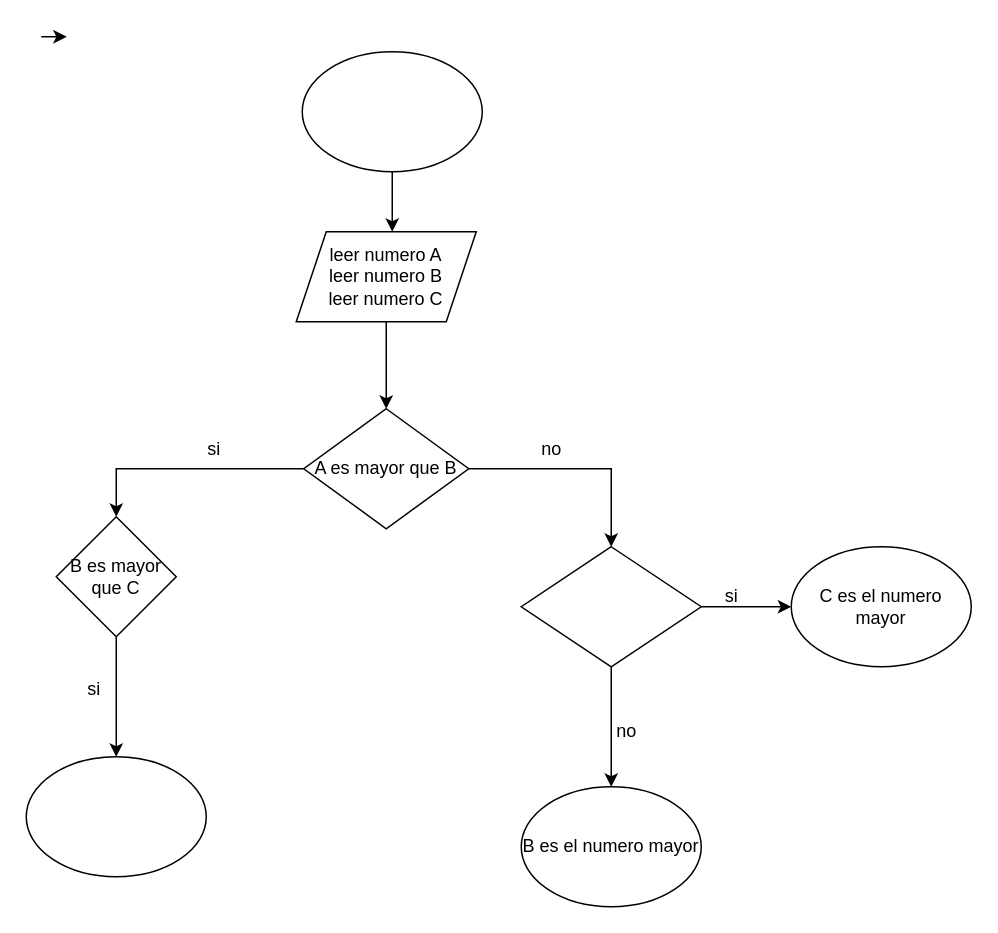
Some shapes in this 998 by 933 pixel diagram are drawn without their labels. The shapes that lost their labels are listed below. From the top down, each one's box as (x1, y1, x2, y2) in pixels, then its label:
(301, 50, 482, 172): Cual numero es mayor A, B o C
(520, 545, 701, 667): C es mayor que B
(25, 755, 206, 877): A es el numero mayor
